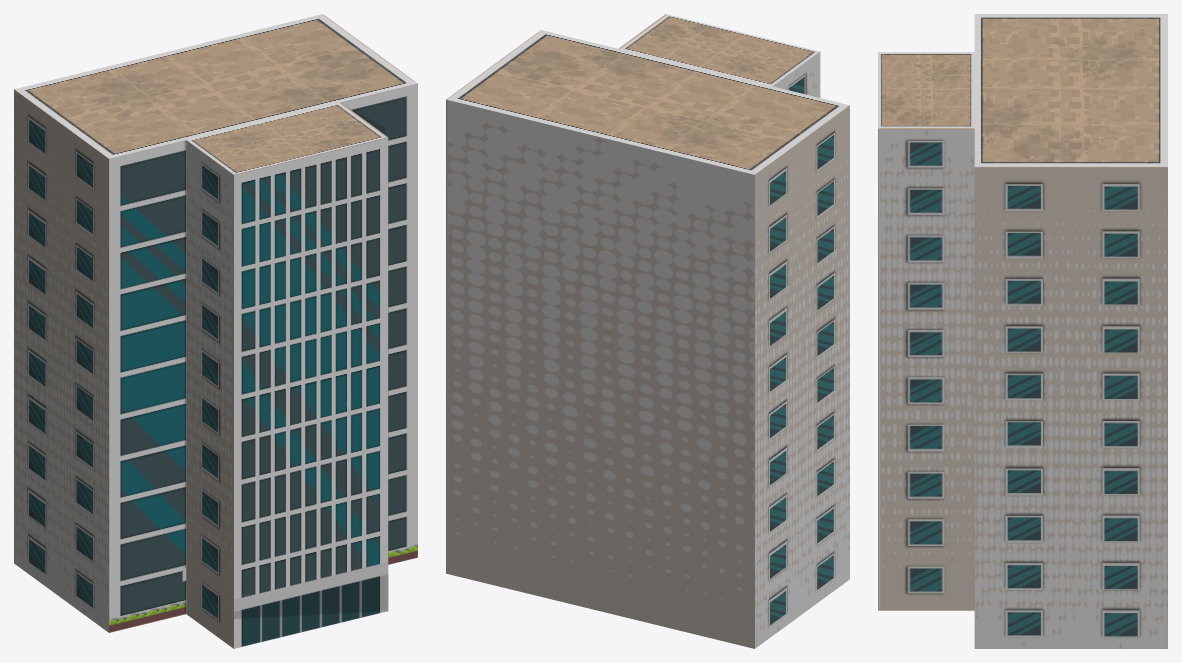
3 renders of one model, left to right at view 1: azimuth 30°, elevation 25°; view 2: azimuth 150°, elevation 25°; view 3: azimuth 270°, elevation 25°, orthographic.
Visible parts, largest first — view 1: Box001; view 2: Box001; view 3: Box001.
Part boxes in pixels (x1,y1,x2,y2): Box001: (14,14,417,648); Box001: (446,14,849,648); Box001: (878,14,1167,648).
Size of the model in its own units: 75 by 110 by 60.
1 material, 1 textured.
